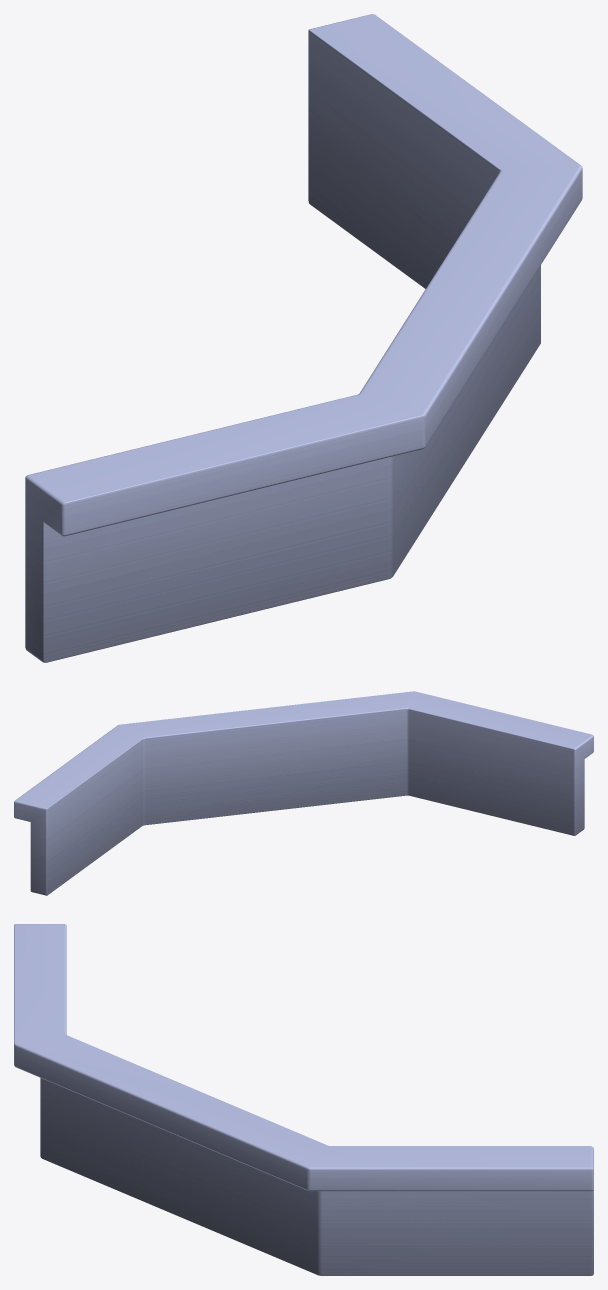
The model's file is border-high-corner-diagonal.glb.
3 renders of one model, top to bottom at view 1: azimuth 30°, elevation 25°; view 2: azimuth 150°, elevation 25°; view 3: azimuth 270°, elevation 25°, orthographic. The views are drawn at different scales.
Parts seen in each view (by area): view 1: border-high-corner-diagonal; view 2: border-high-corner-diagonal; view 3: border-high-corner-diagonal.
Boxes of the visible parts, <box> form: border-high-corner-diagonal: <box>25,14,582,662</box>; border-high-corner-diagonal: <box>14,691,593,895</box>; border-high-corner-diagonal: <box>14,924,593,1275</box>.
Size of the model in its own units: 2.2 by 0.5 by 2.2.
Materials: 1 (1 with a texture image).
